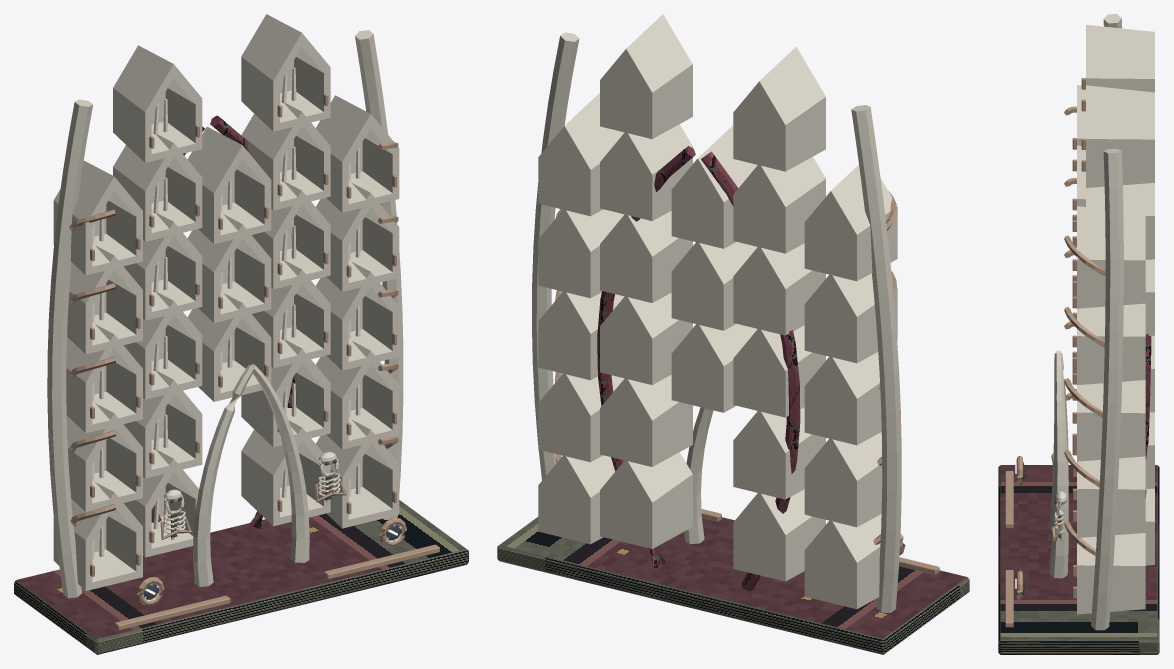
The model's file is ossuary_cell_archive.glb.
The picture shows the model from 3 angles, left to right: view 1: azimuth 30°, elevation 25°; view 2: azimuth 150°, elevation 25°; view 3: azimuth 270°, elevation 25°; orthographic projection. The views are drawn at different scales.
Parts seen in each view (by area): view 1: ossuary_cell_archive_warm, ossuary_cell_archive_petrol, ossuary_cell_archive_worn, ossuary_cell_archive_bruised; view 2: ossuary_cell_archive_warm, ossuary_cell_archive_petrol, ossuary_cell_archive_bruised, ossuary_cell_archive_worn; view 3: ossuary_cell_archive_warm, ossuary_cell_archive_petrol, ossuary_cell_archive_worn, ossuary_cell_archive_bruised.
Boxes of the visible parts, left/top/right/bottom form: ossuary_cell_archive_warm: left=47, top=14, right=403, bottom=601; ossuary_cell_archive_petrol: left=14, top=476, right=468, bottom=654; ossuary_cell_archive_worn: left=69, top=93, right=439, bottom=630; ossuary_cell_archive_bruised: left=151, top=115, right=296, bottom=528; ossuary_cell_archive_warm: left=532, top=14, right=901, bottom=612; ossuary_cell_archive_petrol: left=497, top=517, right=969, bottom=654; ossuary_cell_archive_bruised: left=597, top=146, right=800, bottom=591; ossuary_cell_archive_worn: left=555, top=190, right=939, bottom=574; ossuary_cell_archive_warm: left=1017, top=14, right=1154, bottom=630; ossuary_cell_archive_petrol: left=998, top=465, right=1159, bottom=654; ossuary_cell_archive_worn: left=1005, top=78, right=1105, bottom=627; ossuary_cell_archive_bruised: left=1145, top=334, right=1151, bottom=497.
Size of the model in its own units: 5.95 by 8.05 by 2.3.
6 materials, 2 textured.
